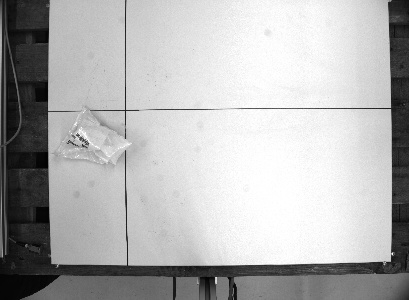t3: (49, 102, 134, 174)
